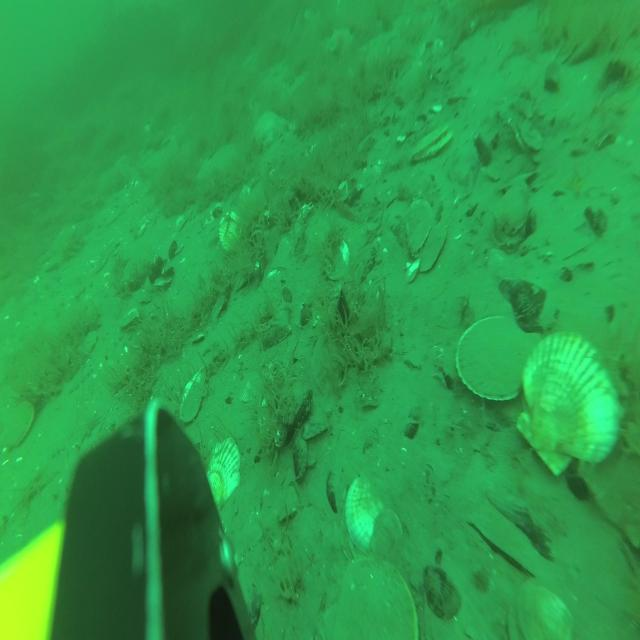scallop: (518, 336, 611, 474), (458, 316, 540, 398), (336, 560, 417, 640), (516, 578, 574, 640), (203, 436, 240, 511), (345, 478, 381, 544), (369, 508, 404, 564), (181, 360, 211, 423), (411, 120, 452, 164), (4, 397, 33, 454), (418, 219, 446, 273), (405, 197, 431, 253), (218, 209, 242, 253)
starfish: (257, 110, 287, 152), (326, 23, 356, 58)
